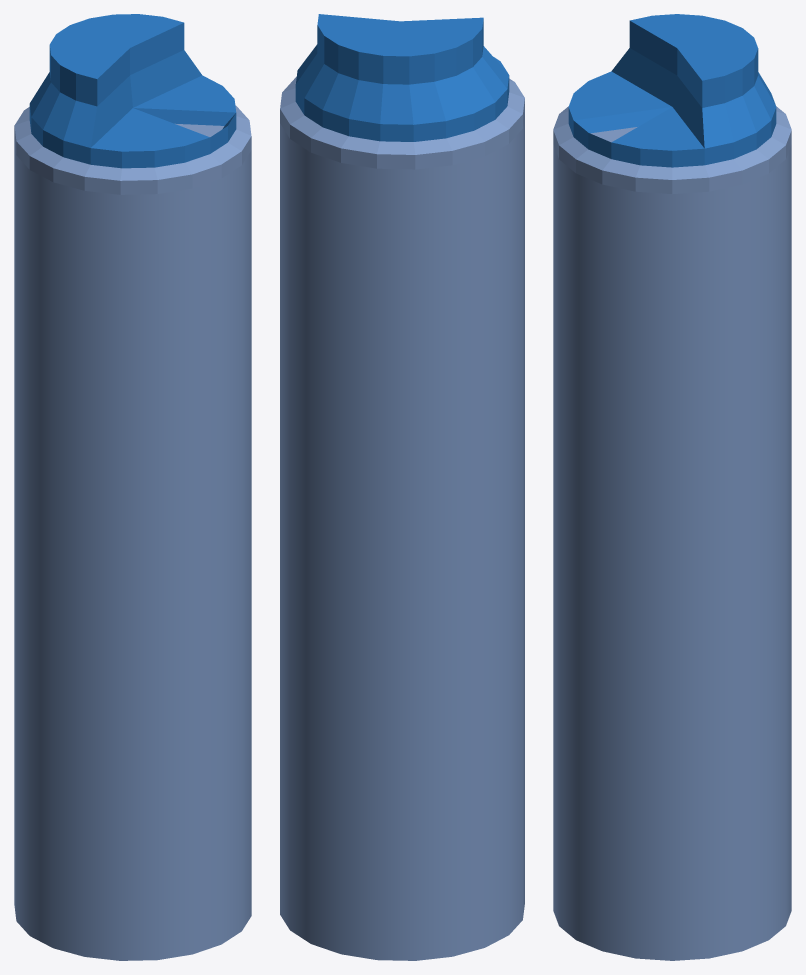
File: 3D WaterBottle (1).fbx
3 views of the same model, side by side, from view 1: azimuth 30°, elevation 25°; view 2: azimuth 150°, elevation 25°; view 3: azimuth 270°, elevation 25° (orthographic). The views are drawn at different scales.
Visible parts, largest first — view 1: pCylinder8; view 2: pCylinder8; view 3: pCylinder8.
Boxes of the visible parts, x1,y1,x2,y2 form: pCylinder8: (14,14,251,960); pCylinder8: (280,14,524,960); pCylinder8: (553,14,791,960).
Size of the model in its own units: 0.6837 by 2.73 by 0.6838.
